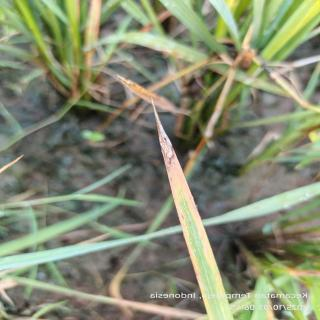Hawar-Daun: (156, 114, 213, 268), (158, 126, 200, 276)
